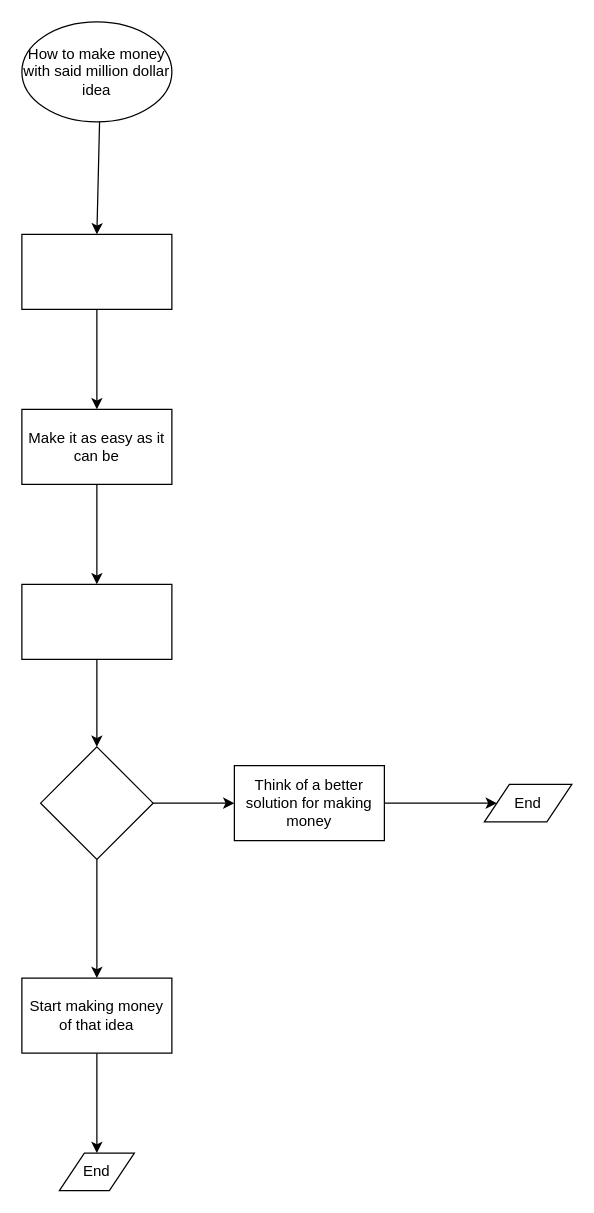
This 594x1213 diagram has some shape labels left out. Here are the shapes that lost their labels. From the top down, the box of each, then its label:
(21, 233, 172, 309): Make the original idea of an aplication for sending big sized files
(21, 583, 172, 659): provide a payment option for faster file sending
(39, 746, 153, 859): Does people find it useful?
